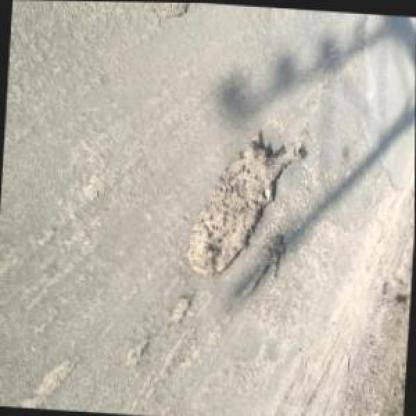pothole: (182, 124, 310, 280), (236, 228, 288, 300), (136, 2, 191, 22), (168, 288, 194, 328)
